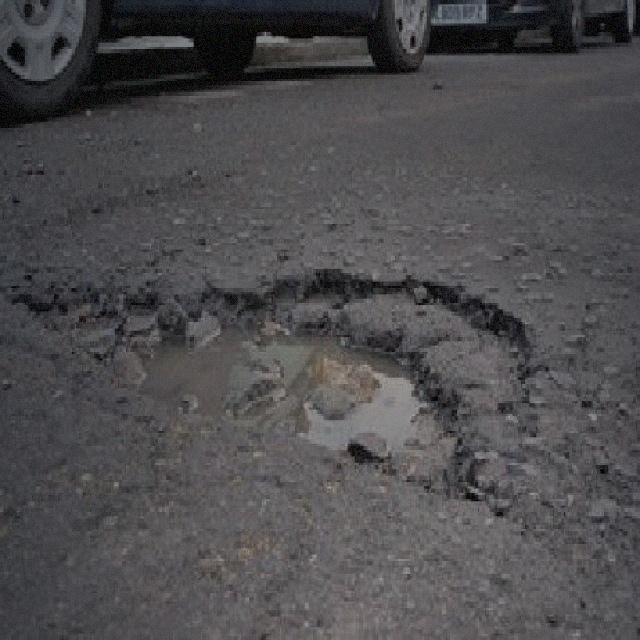pothole: (11, 260, 535, 525)
